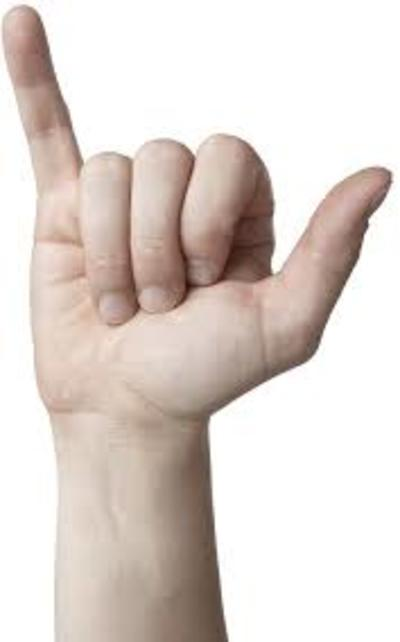closedhandfront: (18, 131, 312, 418)
mindinho: (2, 1, 89, 208)
